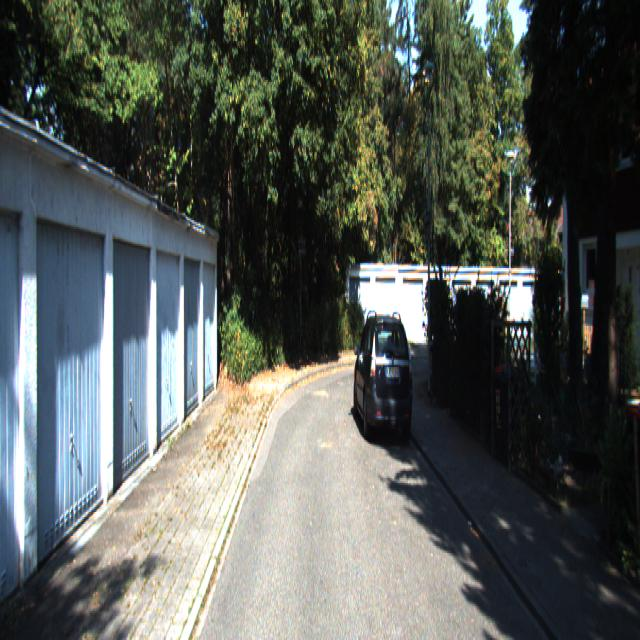Car: (353, 310, 415, 441)
